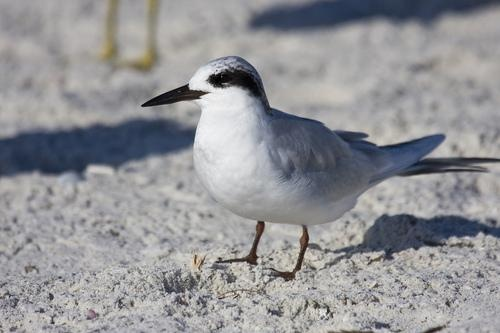bird: (139, 55, 496, 266)
